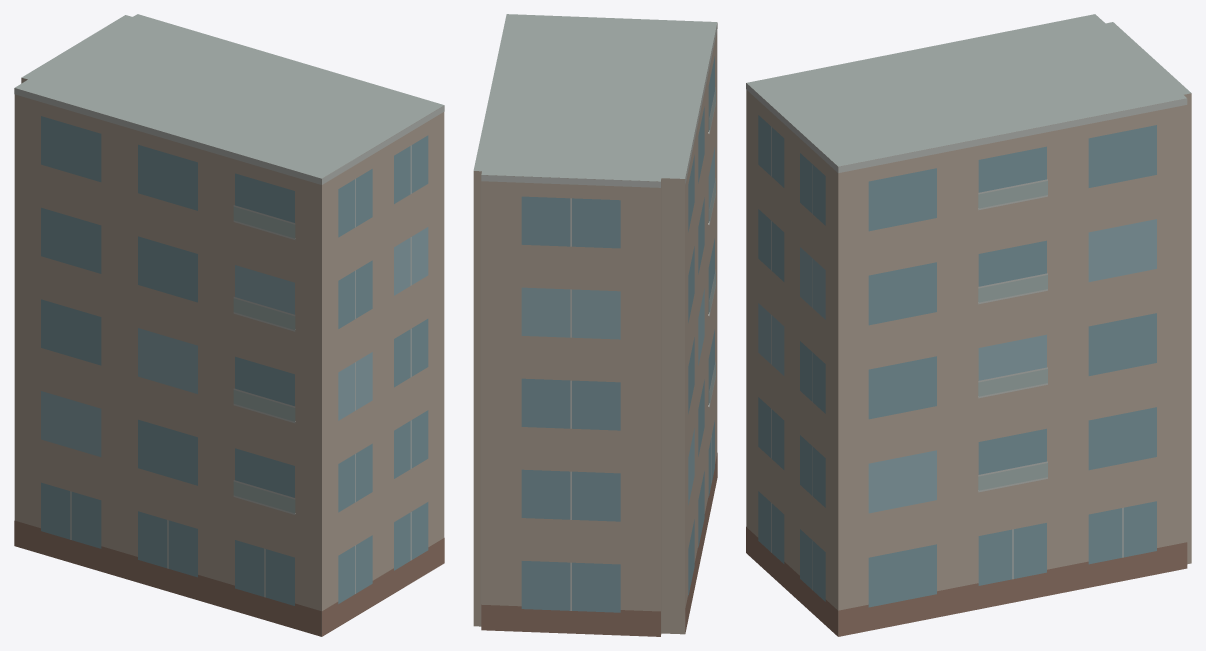
Rendered from survey-upis-32892652.glb.
3 views of the same model, side by side, from view 1: azimuth 30°, elevation 25°; view 2: azimuth 150°, elevation 25°; view 3: azimuth 270°, elevation 25° (orthographic). The views are drawn at different scales.
Visible parts, largest first — view 1: survey-upis-32892652.tmp; view 2: survey-upis-32892652.tmp; view 3: survey-upis-32892652.tmp.
Boxes of the visible parts, box(x1,y1,x2,y2) form: survey-upis-32892652.tmp: box(14, 14, 444, 636); survey-upis-32892652.tmp: box(473, 14, 717, 636); survey-upis-32892652.tmp: box(746, 14, 1191, 636).
Bounding box in the file's own units: 12.2 × 17.51 × 15.04.
